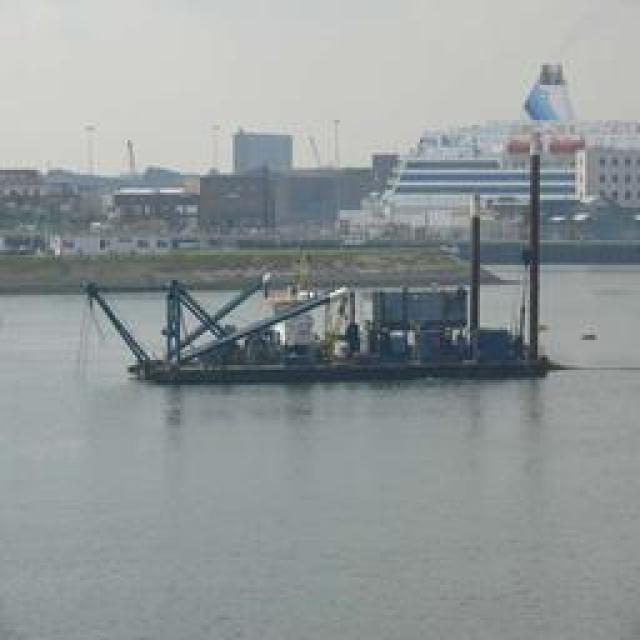CIV_Ship: (109, 278, 572, 382)
